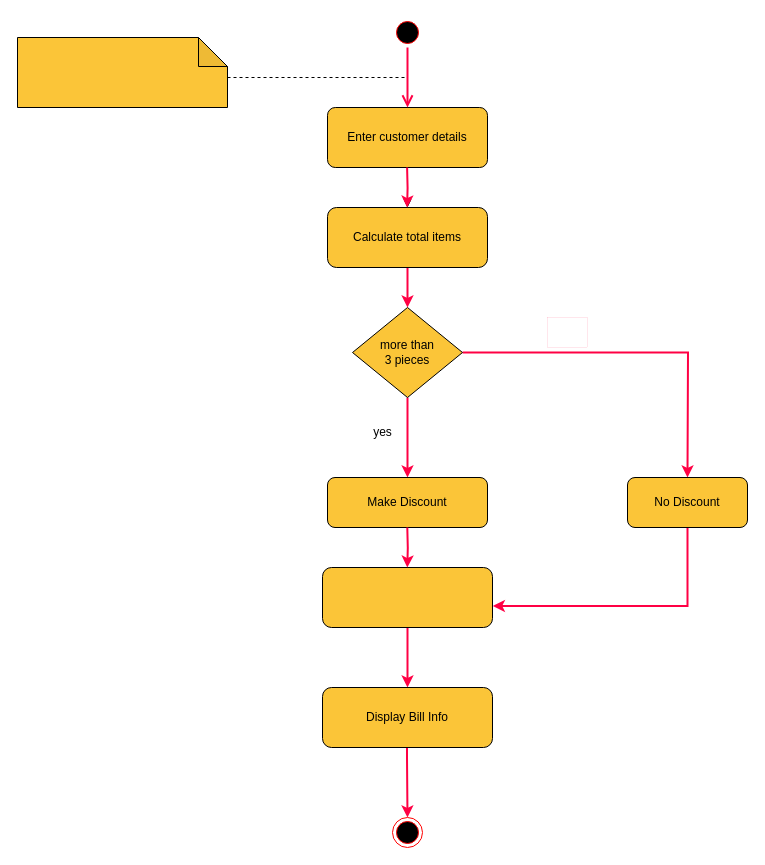
This 765x865 diagram has some shape labels left out. The shapes that lost their labels are listed below. From the top down, each one's centre as x and y in pixels, then its label:
the point at 122,72: employee login to the system
the point at 567,332: No
the point at 407,597: Calculate Total Price
